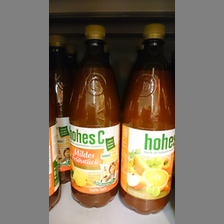juice: (119, 22, 175, 215), (69, 25, 120, 210)
